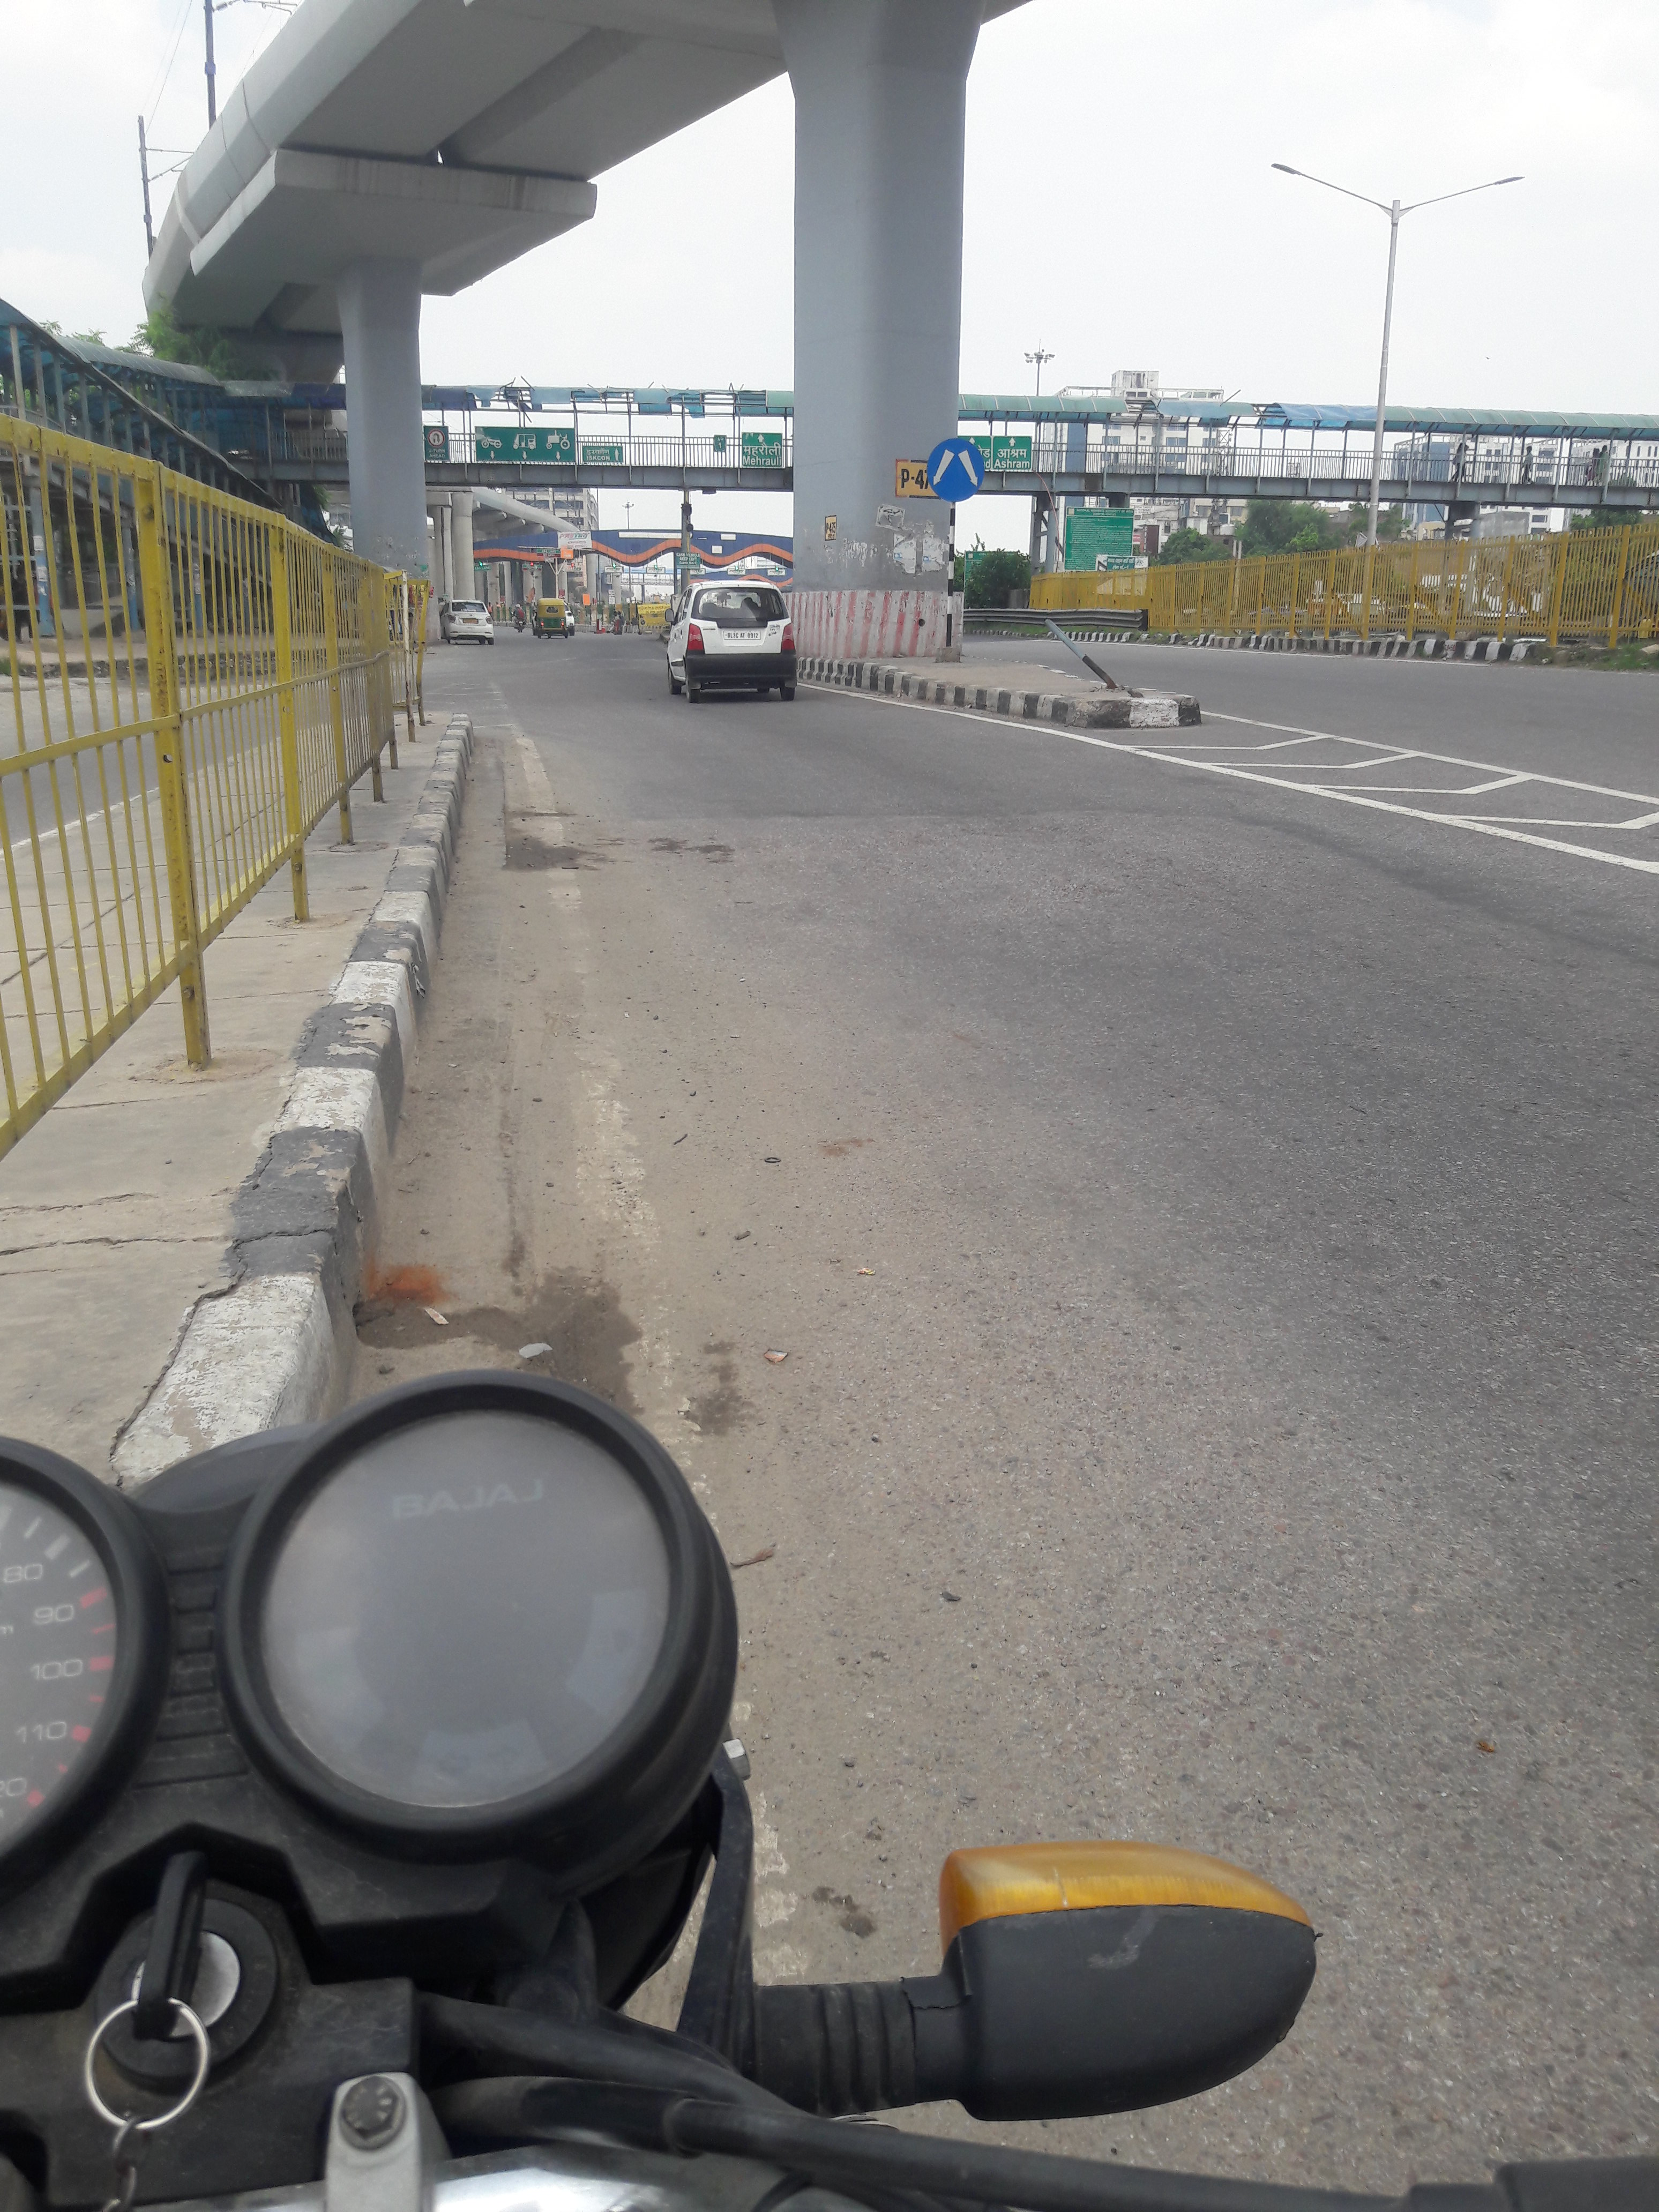traffic_sign: (927, 439, 983, 502), (422, 425, 450, 460)
